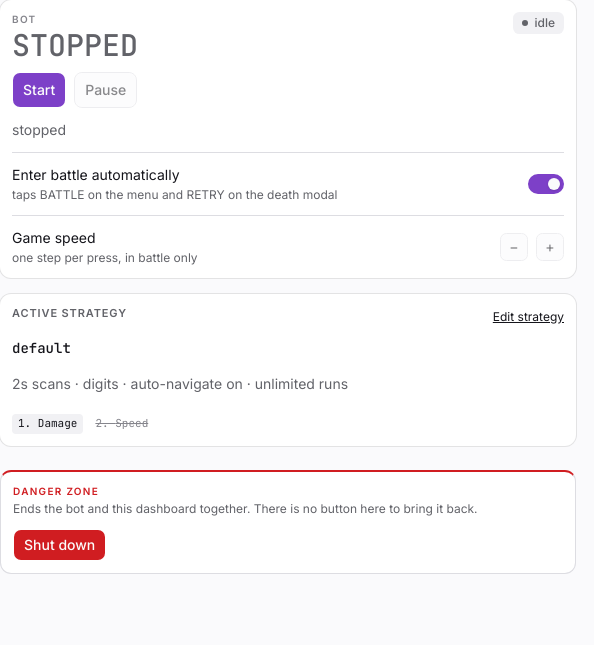
ControlPage › shows a failed shutdown instead of failing silently
Click the button "Shut down" at (60, 545), box [13,529,106,561]
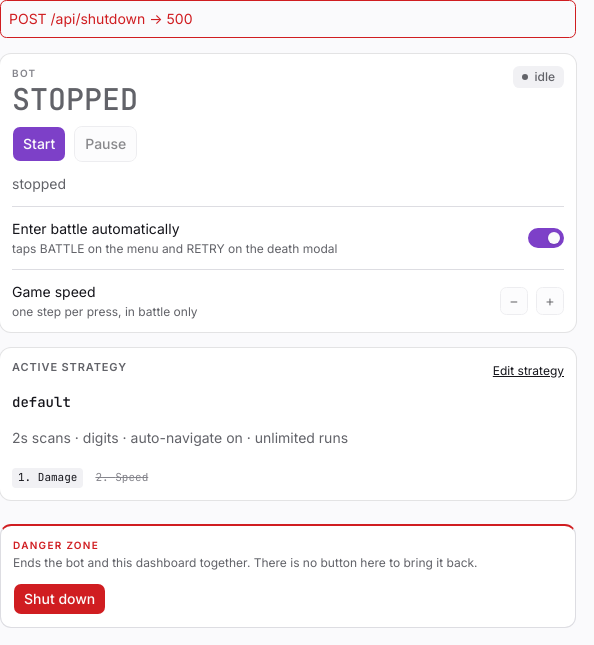
expect the text "POST /api/shutdown -> 500" is shown: met, box [0,0,576,38]
